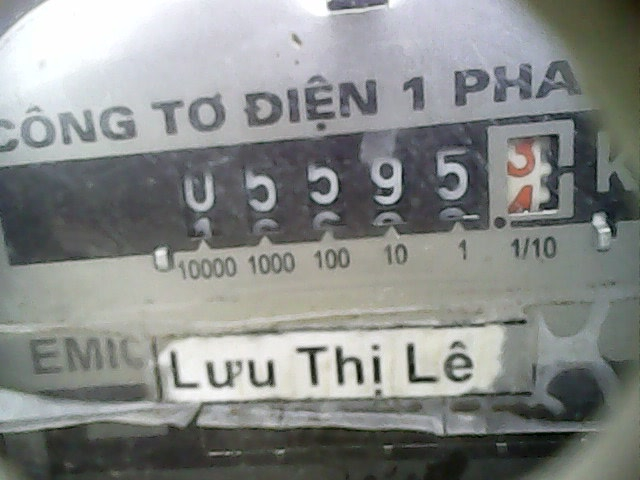phy_plate: (167, 114, 588, 252)
